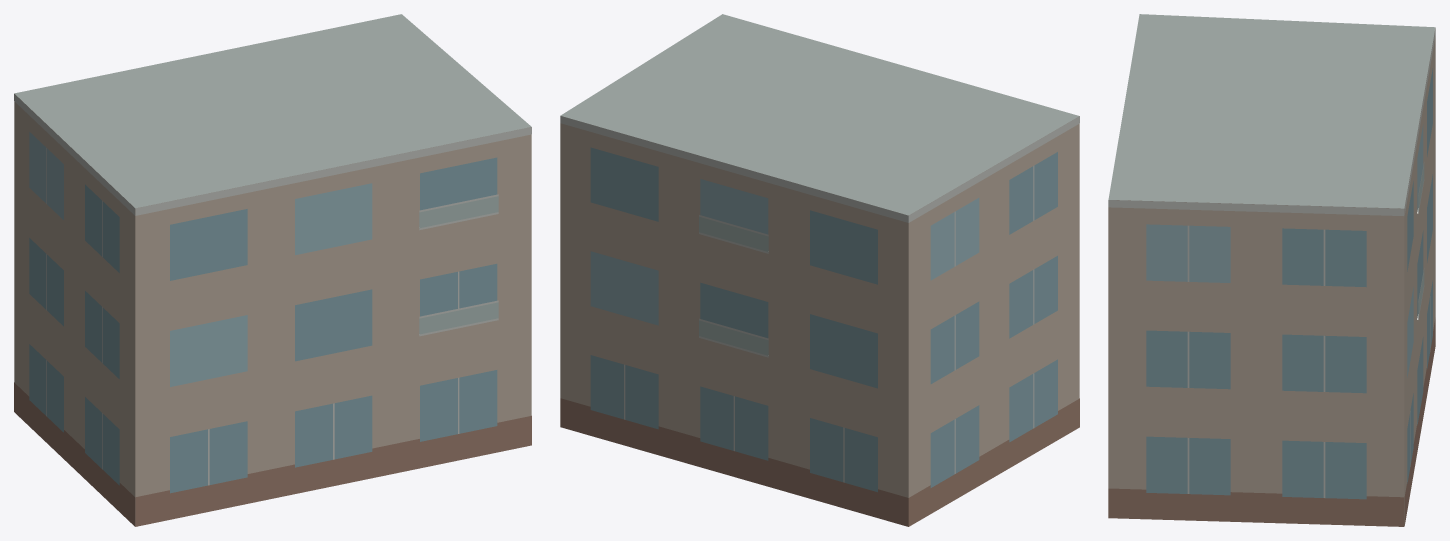
Rendered from survey-upis-32798823.glb.
The picture shows the model from 3 angles, left to right: view 1: azimuth 30°, elevation 25°; view 2: azimuth 150°, elevation 25°; view 3: azimuth 270°, elevation 25°; orthographic projection. The views are drawn at different scales.
Parts seen in each view (by area): view 1: survey-upis-32798823.tmp; view 2: survey-upis-32798823.tmp; view 3: survey-upis-32798823.tmp.
Part boxes in pixels (x1,y1,x2,y2): survey-upis-32798823.tmp: [14, 14, 531, 526]; survey-upis-32798823.tmp: [560, 14, 1079, 526]; survey-upis-32798823.tmp: [1108, 14, 1435, 526].
Bounding box in the file's own units: 13.38 × 10.2 × 9.51.
